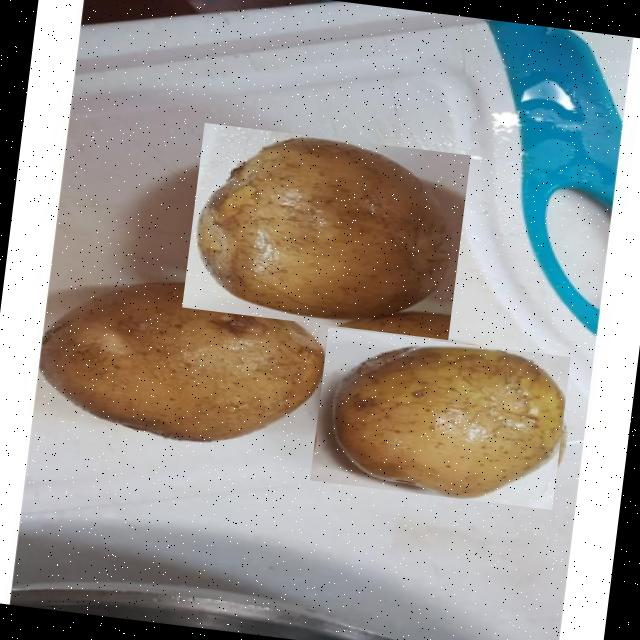Potato: (25, 264, 342, 464), (180, 122, 470, 338), (308, 326, 570, 508)
